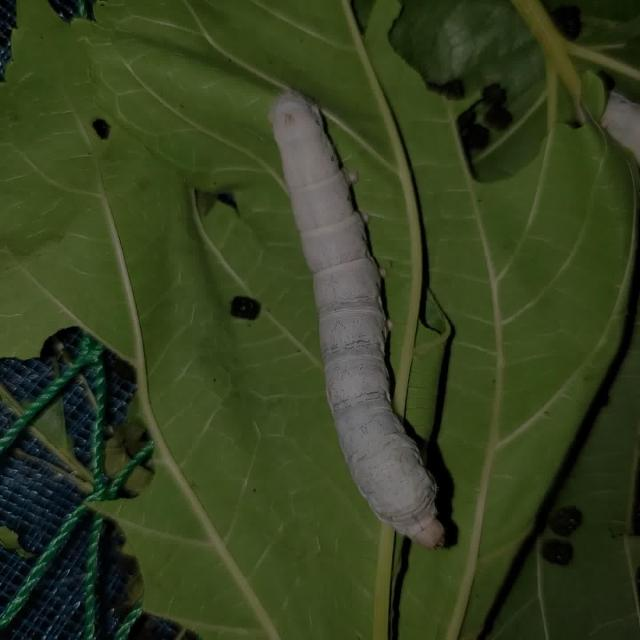Healthy: (240, 70, 480, 572)
